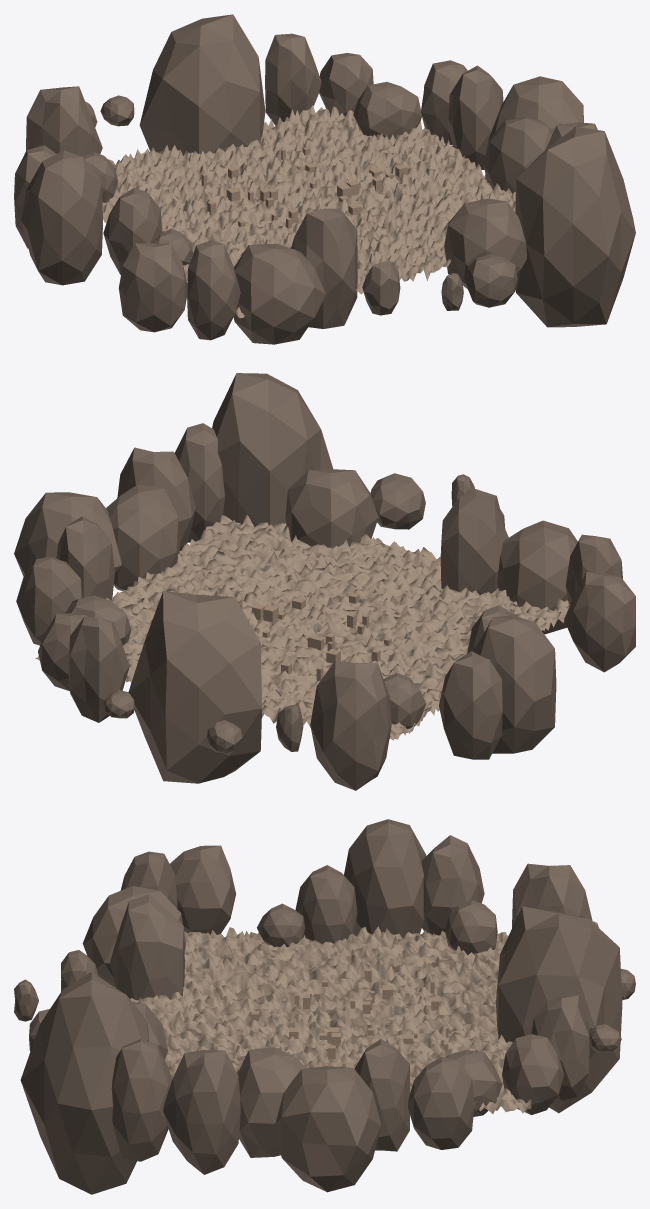
Rendered from valorant_props.gltf.
3 renders of one model, top to bottom at view 1: azimuth 30°, elevation 25°; view 2: azimuth 150°, elevation 25°; view 3: azimuth 270°, elevation 25°, orthographic. The views are drawn at different scales.
Bounding box in the file's own units: 376 × 131 × 366.
